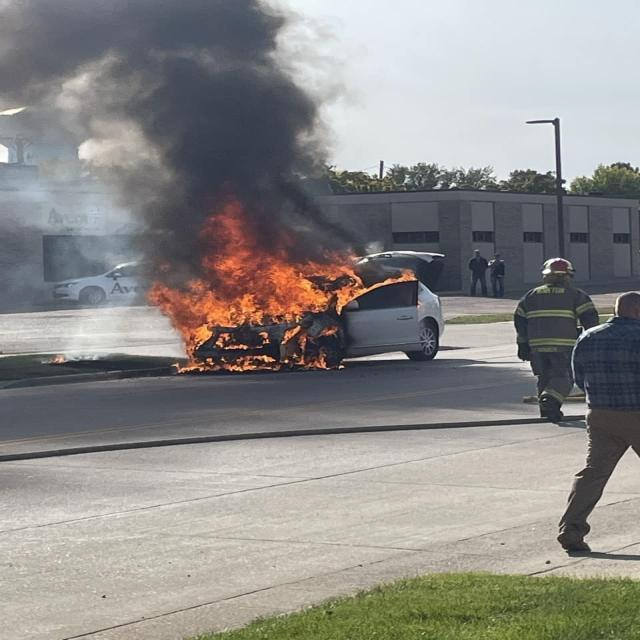Fire: (154, 219, 382, 377)
Smoke: (0, 0, 425, 264)
